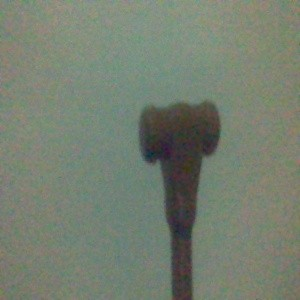palu: (138, 100, 221, 300)
